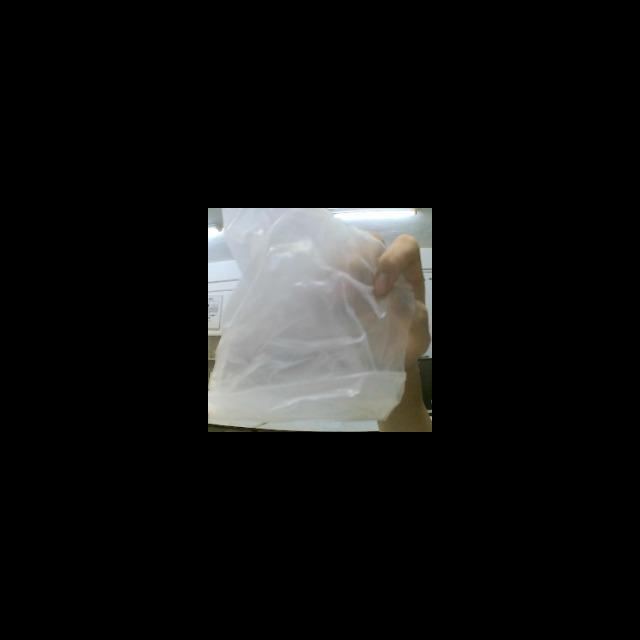plastic: (221, 208, 416, 432)
